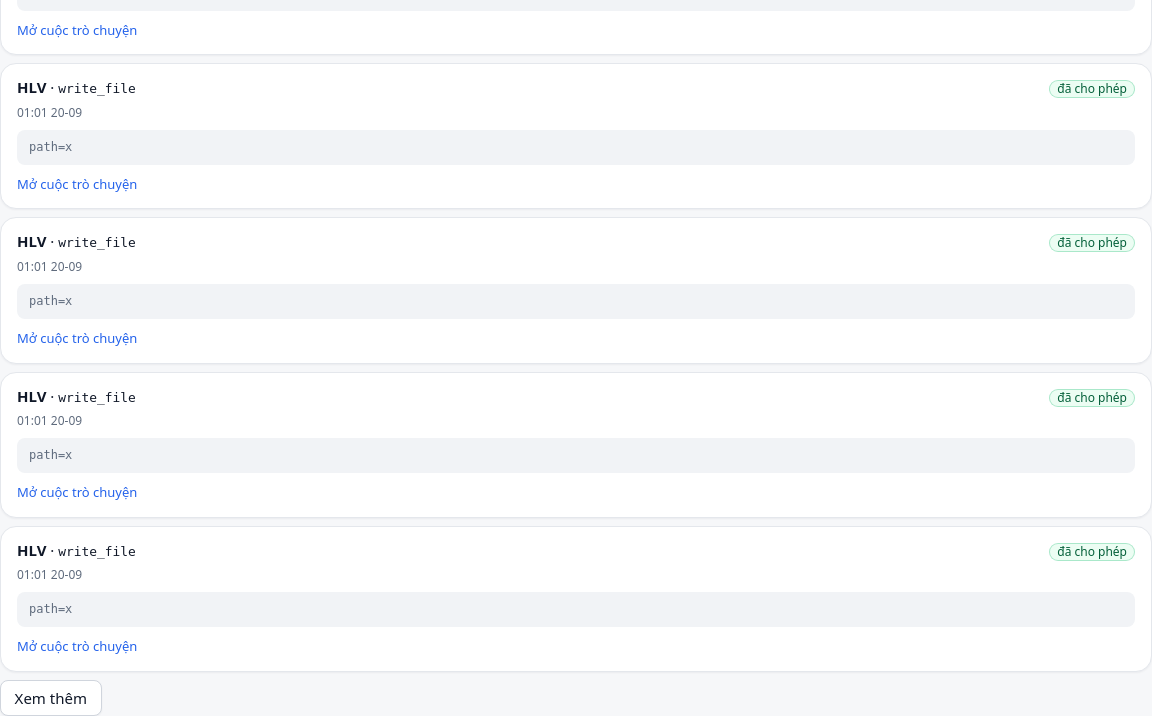
Scenario: ApprovalHistory › keeps the rows already read when a bigger page fails, says so and asks again
(page scrolled)
What coordinates should you click on to do the following:
click the button "Xem thêm"
I would click on:
 (51, 698)
Its box is [0,680,102,715].
(page scrolled)
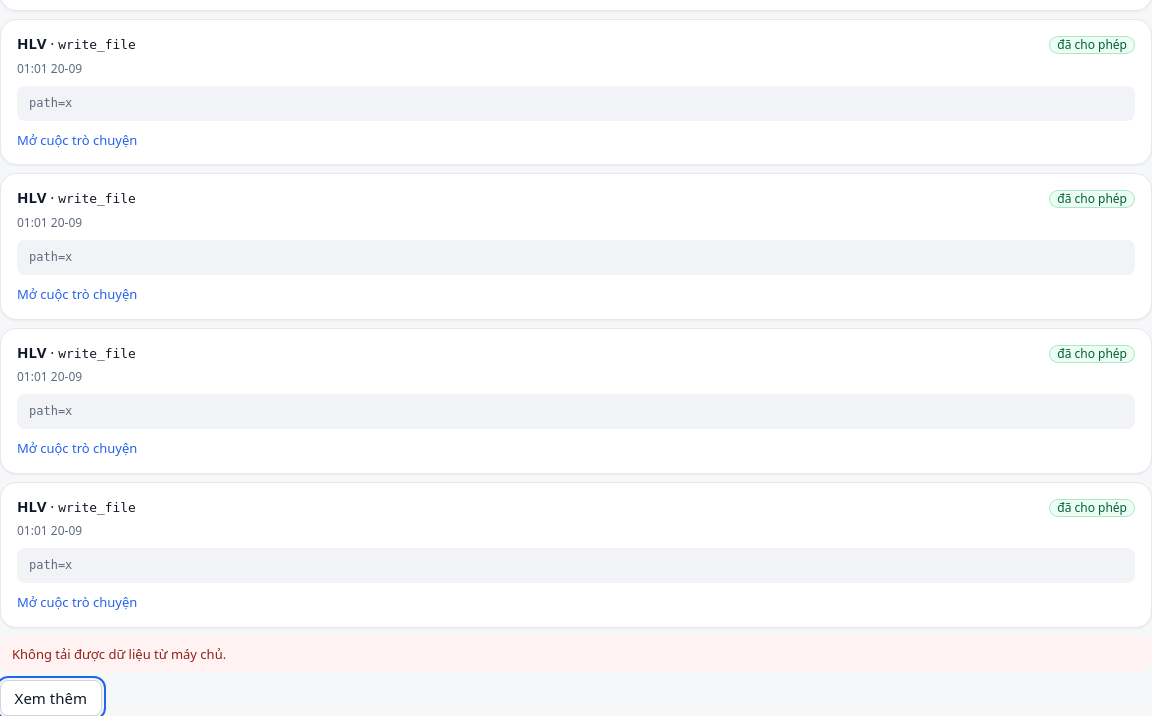
Check: the text "Không tải được dữ liệu từ máy chủ." is shown, box [0,636,1151,672]
What coordinates should you click on to do the following:
click the button "Xem thêm"
I would click on:
 (51, 698)
Its box is [0,680,102,715].
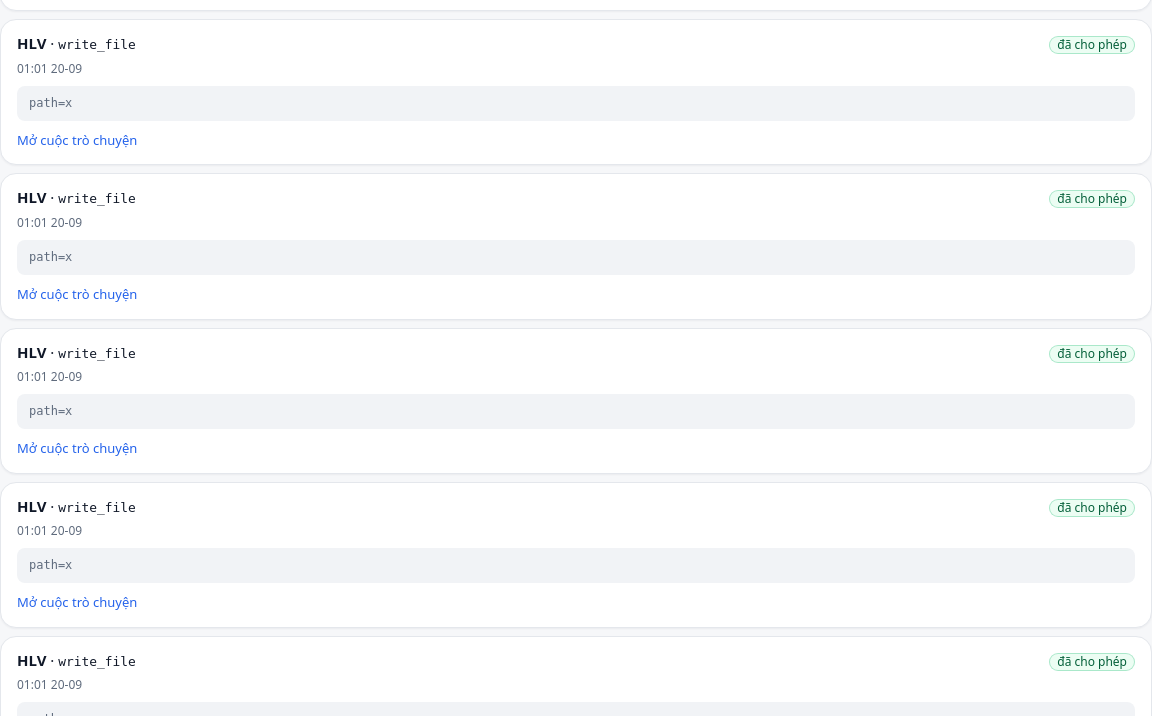
Check: the text "Không tải được dữ liệu từ máy chủ." is gone
